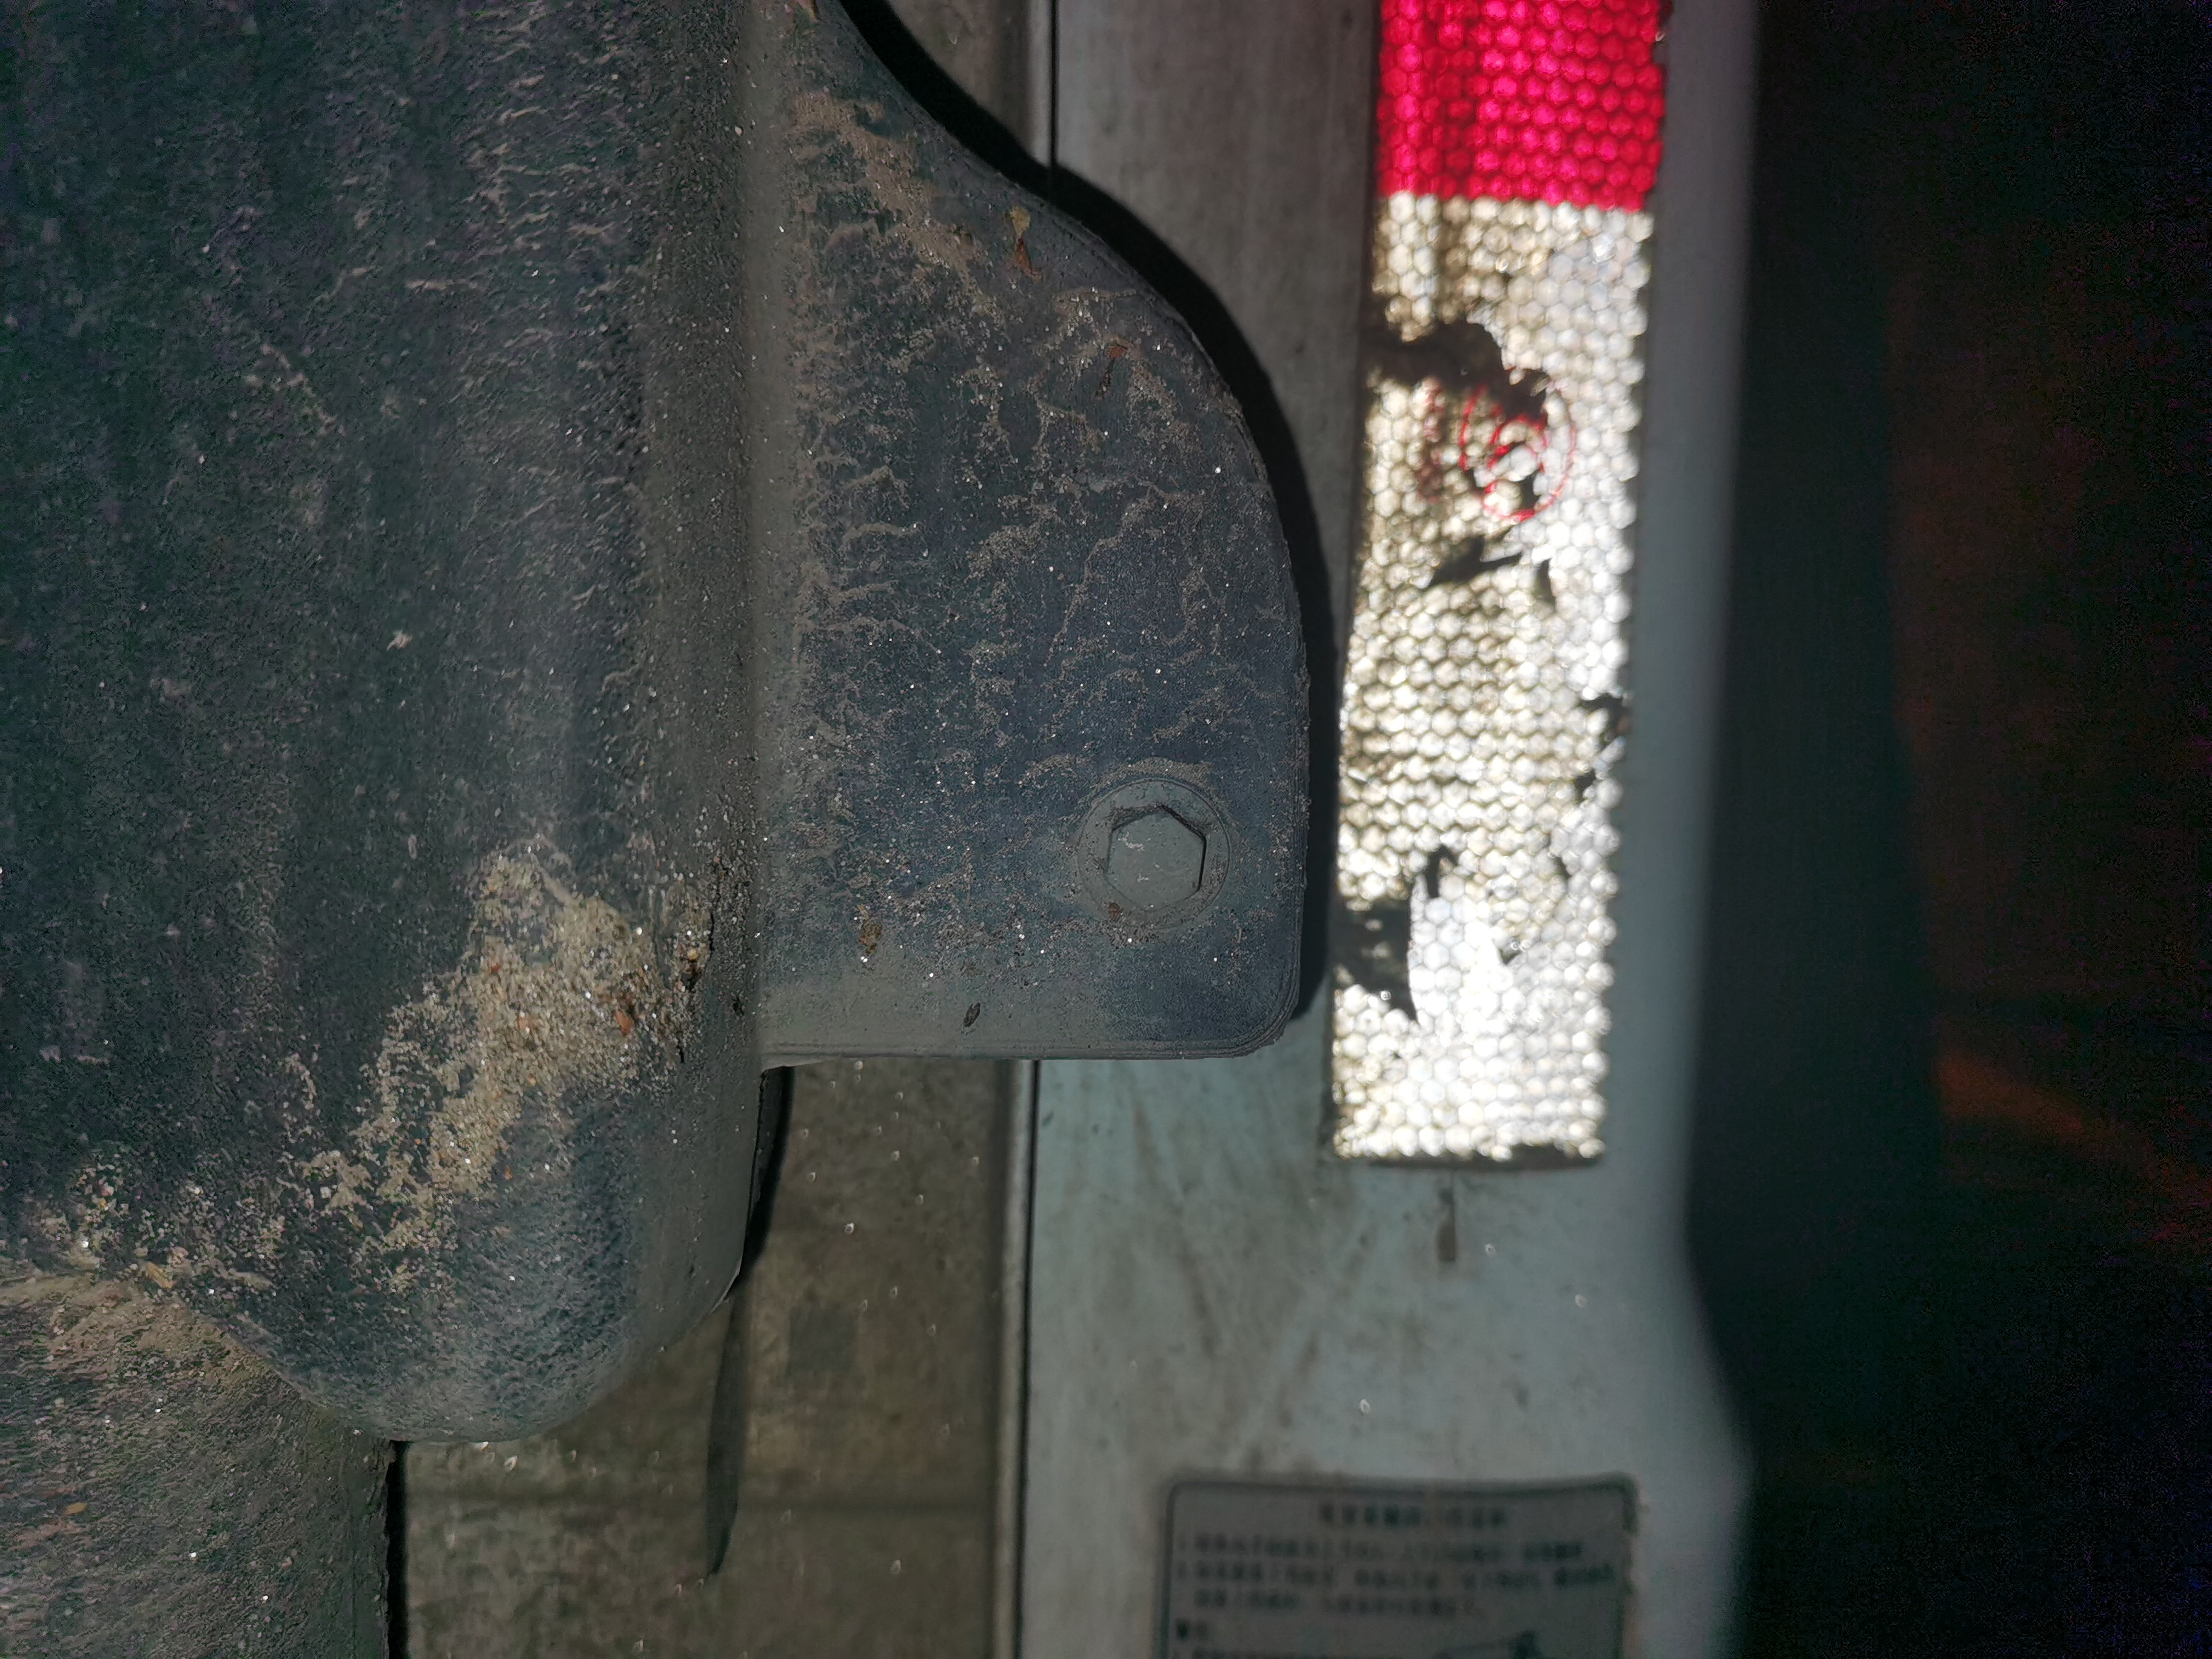bolt_a: (1099, 800, 1211, 915)
